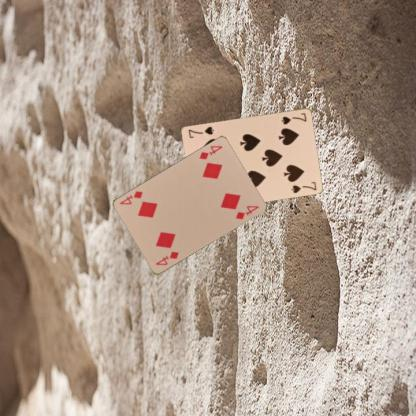4d: (196, 143, 224, 161), (153, 249, 180, 267)
7s: (279, 110, 308, 125)
